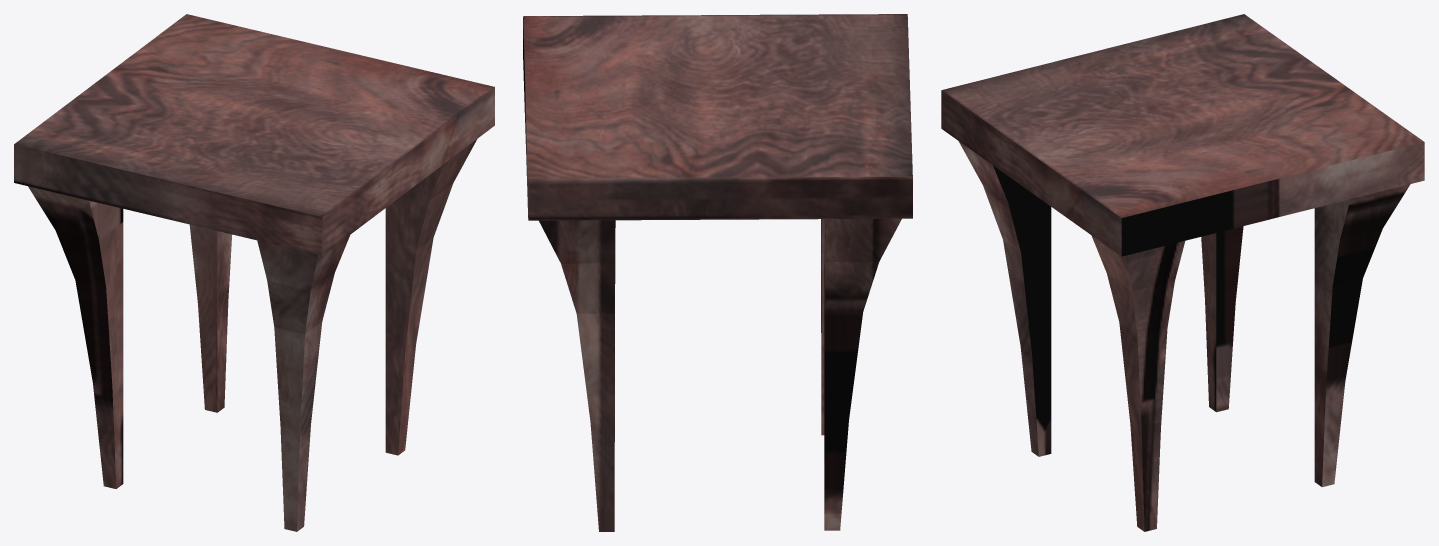
Rendered from Mesa_pequena.fbx.
3 renders of one model, left to right at view 1: azimuth 30°, elevation 25°; view 2: azimuth 150°, elevation 25°; view 3: azimuth 270°, elevation 25°, orthographic. The views are drawn at different scales.
Visible parts, largest first — view 1: Newspaper.003; view 2: Newspaper.003; view 3: Newspaper.003.
Part boxes in pixels (x1,y1,x2,y2): Newspaper.003: (14,14,494,531); Newspaper.003: (523,14,912,531); Newspaper.003: (941,14,1424,531).
Size of the model in its own units: 61.69 by 49.57 by 61.69.
Materials: 1 (1 with a texture image).
